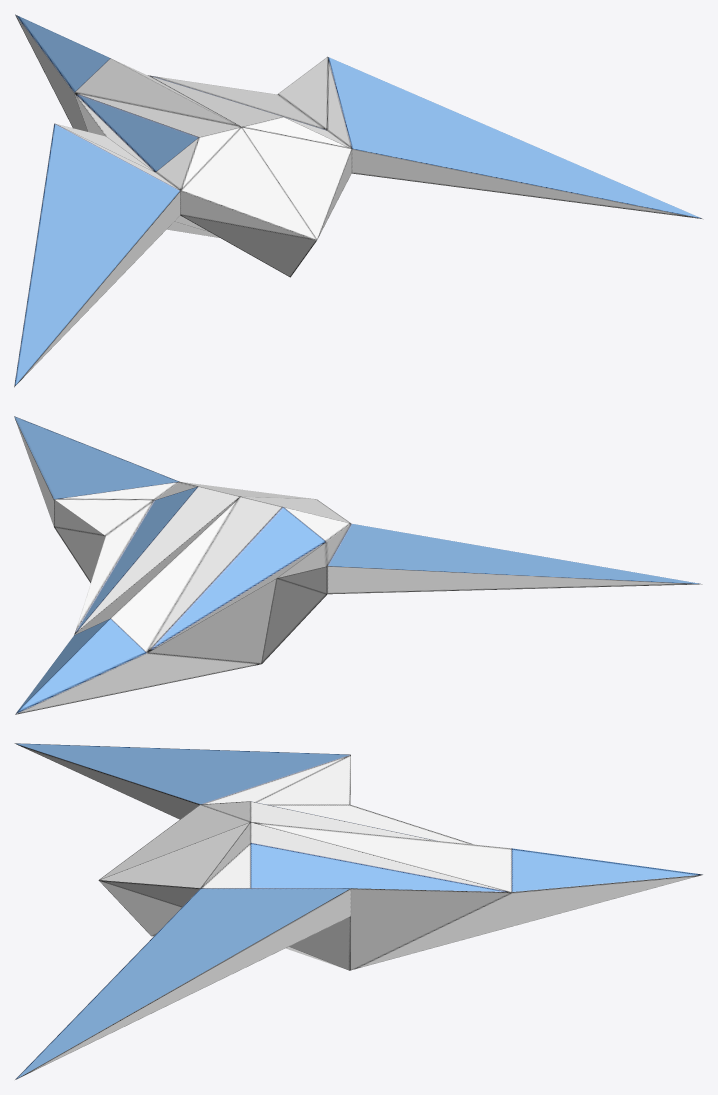
The model's file is ship.obj.
The picture shows the model from 3 angles, top to bottom: view 1: azimuth 30°, elevation 25°; view 2: azimuth 150°, elevation 25°; view 3: azimuth 270°, elevation 25°; orthographic projection.
Visible parts, largest first — view 1: simpleship; view 2: simpleship; view 3: simpleship.
Part boxes in pixels (box(x1,y1,x2,y2)): simpleship: box(14, 14, 703, 387); simpleship: box(14, 416, 702, 714); simpleship: box(14, 743, 702, 1079).
Bounding box in the file's own units: 8.05 × 1.28 × 6.95.
Materials: 2 (2 with a texture image).
